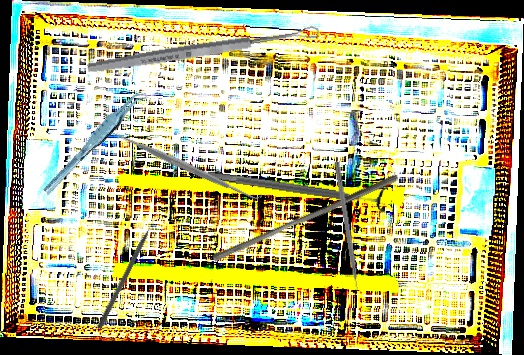Chopper: (326, 161, 362, 300)
Fixation Ring: (205, 160, 389, 215)
Pusher: (210, 166, 400, 269), (96, 212, 161, 331)
Spatula Surgical: (105, 121, 265, 210)
Surgical Spoon: (85, 24, 322, 76)
Tissue Forceps: (32, 87, 158, 197)
